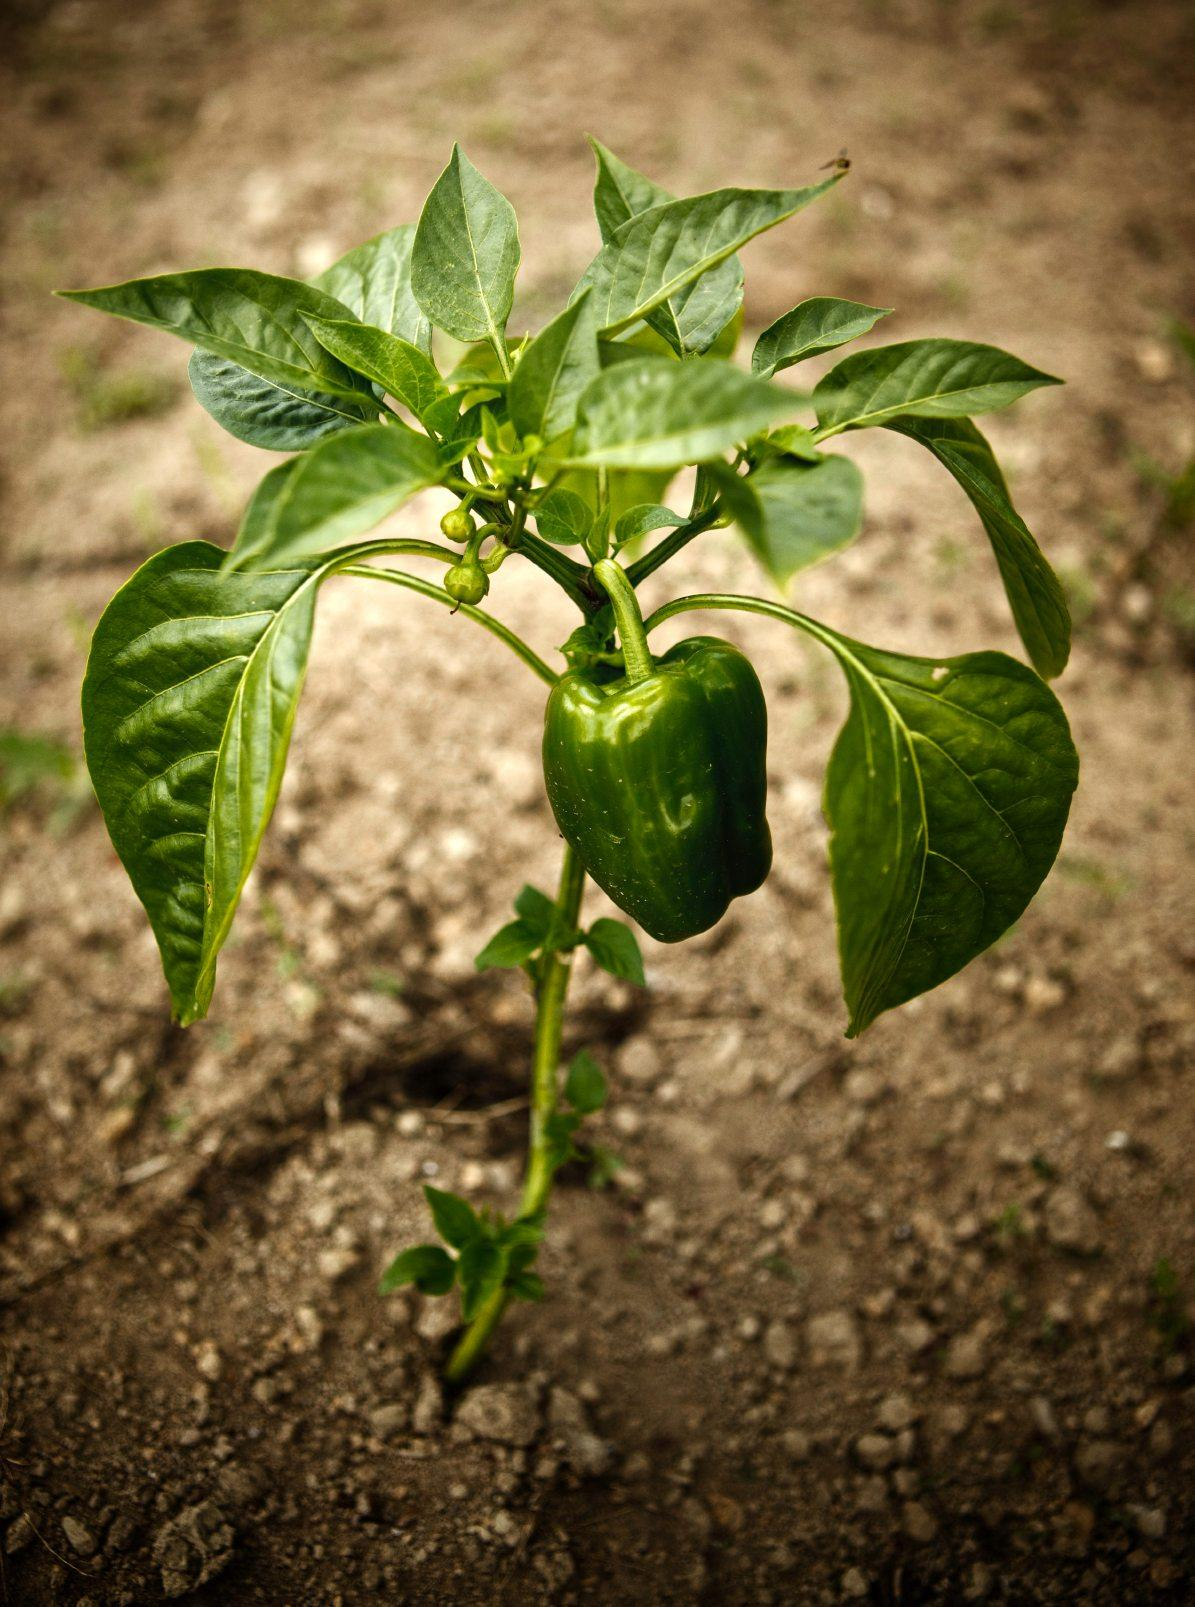Bell_pepper leaf spot: (808, 601, 1080, 1052), (77, 536, 318, 1033), (58, 259, 384, 433), (564, 151, 866, 326), (556, 341, 808, 457), (818, 338, 1072, 441), (397, 138, 518, 343)
